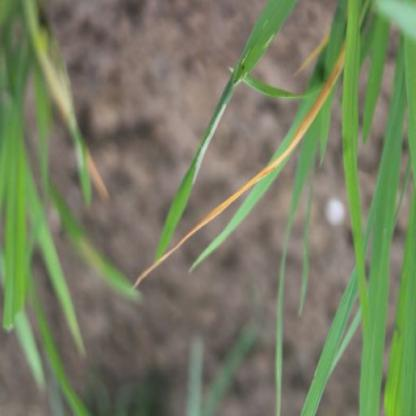Tungro: (132, 87, 350, 293)
